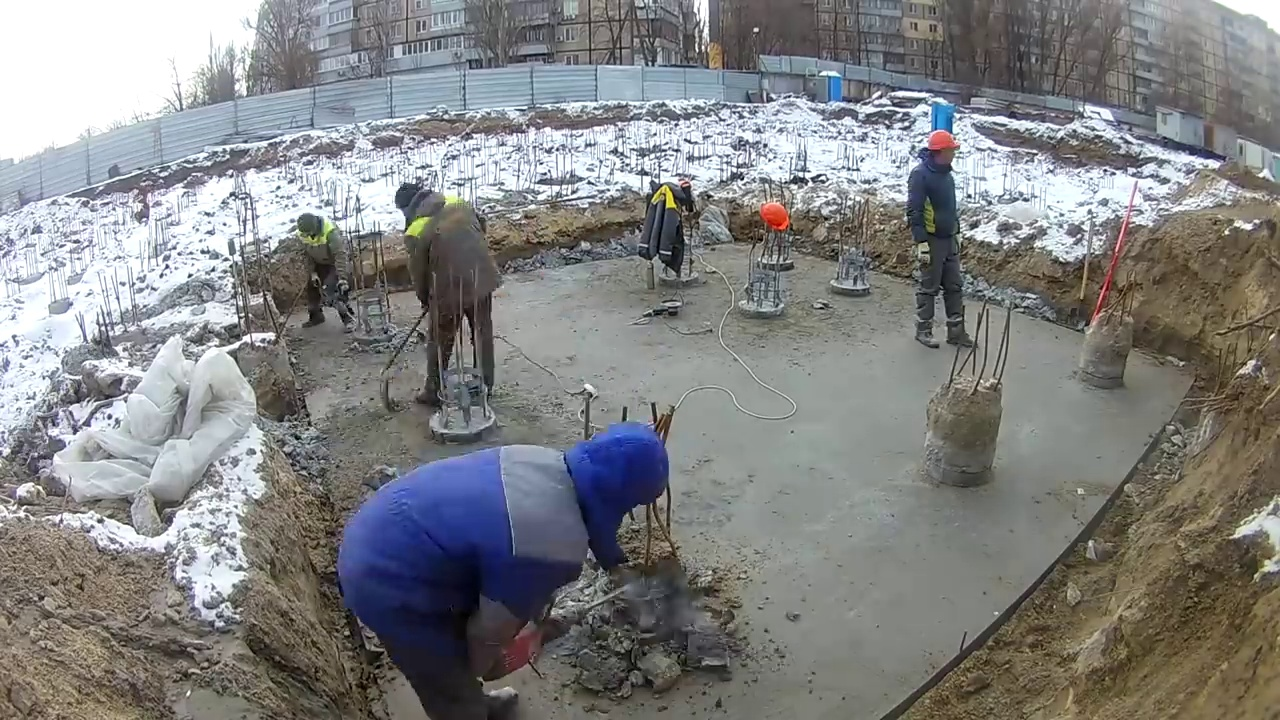helmet: (759, 204, 791, 232)
helmet-off: (554, 419, 681, 534), (395, 181, 441, 232), (296, 212, 322, 239)
helmet-on: (924, 126, 965, 173)
person: (337, 419, 682, 720), (393, 178, 504, 408), (906, 116, 972, 352), (295, 208, 356, 337)
